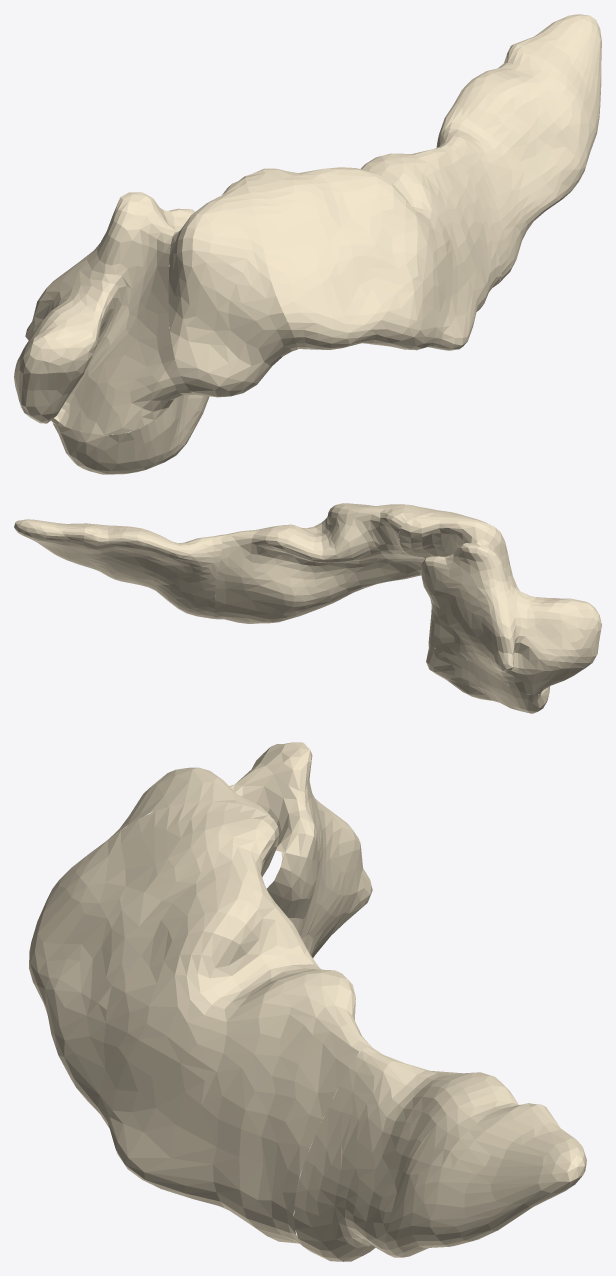
File: VH_F_Pancreas_0.4.glb
The picture shows the model from 3 angles, top to bottom: view 1: azimuth 30°, elevation 25°; view 2: azimuth 150°, elevation 25°; view 3: azimuth 270°, elevation 25°; orthographic projection. The views are drawn at different scales.
Parts seen in each view (by area): view 1: VH_F_body_of_pancreas, VH_F_head_of_pancreas, VH_F_tail_of_pancreas, VH_F_neck_of_pancreas, VH_F_uncinate_process; view 2: VH_F_body_of_pancreas, VH_F_head_of_pancreas, VH_F_tail_of_pancreas, VH_F_neck_of_pancreas, VH_F_uncinate_process; view 3: VH_F_body_of_pancreas, VH_F_tail_of_pancreas, VH_F_head_of_pancreas, VH_F_neck_of_pancreas.
Part boxes in pixels (<box>): VH_F_body_of_pancreas: <box>245,145,501,350</box>; VH_F_head_of_pancreas: <box>14,192,194,434</box>; VH_F_tail_of_pancreas: <box>436,14,601,282</box>; VH_F_neck_of_pancreas: <box>168,176,297,397</box>; VH_F_uncinate_process: <box>53,394,209,474</box>; VH_F_body_of_pancreas: <box>214,503,448,623</box>; VH_F_head_of_pancreas: <box>421,543,601,695</box>; VH_F_tail_of_pancreas: <box>14,519,221,618</box>; VH_F_neck_of_pancreas: <box>398,511,519,590</box>; VH_F_uncinate_process: <box>426,642,549,713</box>; VH_F_body_of_pancreas: <box>29,801,371,1245</box>; VH_F_tail_of_pancreas: <box>294,1047,586,1261</box>; VH_F_head_of_pancreas: <box>229,742,372,957</box>; VH_F_neck_of_pancreas: <box>108,767,270,839</box>.
Size of the model in its own units: 0.1722 by 0.0579 by 0.0845.
